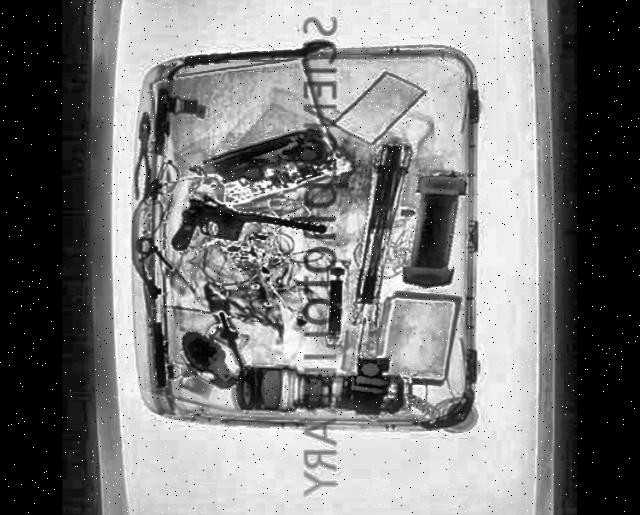Gun: (168, 191, 326, 252)
